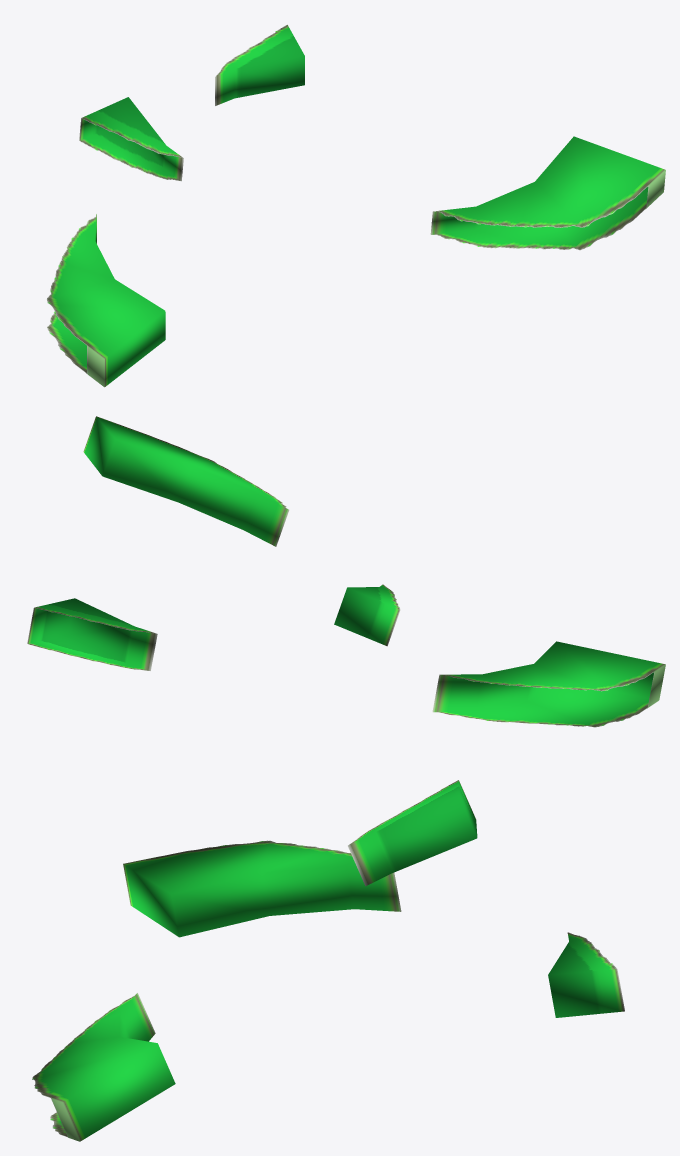
Rendered from OnionCut.01_1.fbx.
3 renders of one model, top to bottom at view 1: azimuth 30°, elevation 25°; view 2: azimuth 150°, elevation 25°; view 3: azimuth 270°, elevation 25°, orthographic. The views are drawn at different scales.
Visible parts, largest first — view 1: OnionCut.01; view 2: OnionCut.01; view 3: OnionCut.01.
Part boxes in pixels (box(x1,y1,x2,y2)): OnionCut.01: box(47, 24, 665, 387); OnionCut.01: box(27, 416, 665, 727); OnionCut.01: box(32, 780, 624, 1141).
Size of the model in its own units: 35.73 by 9.75 by 28.37.
